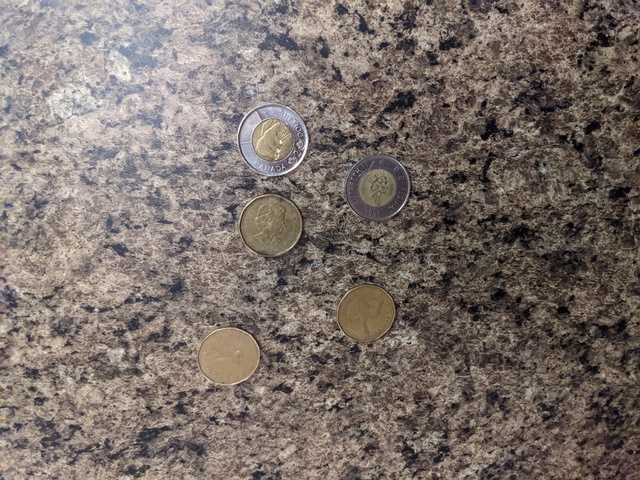loonie: (224, 189, 306, 258), (190, 314, 264, 390), (334, 280, 401, 346)
twonie: (236, 105, 322, 180), (335, 146, 413, 224)
